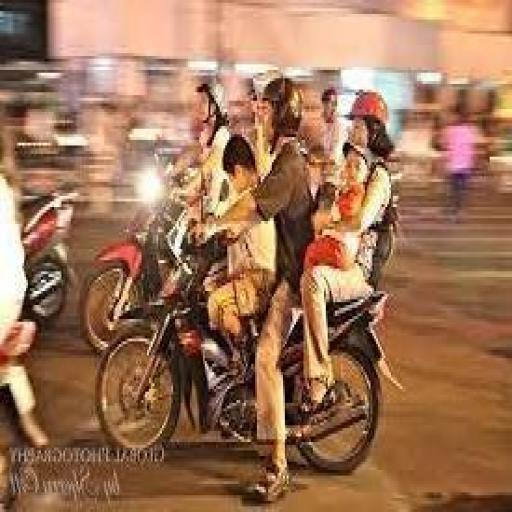helmet: (257, 75, 318, 185)
triple riding: (98, 72, 402, 478)
